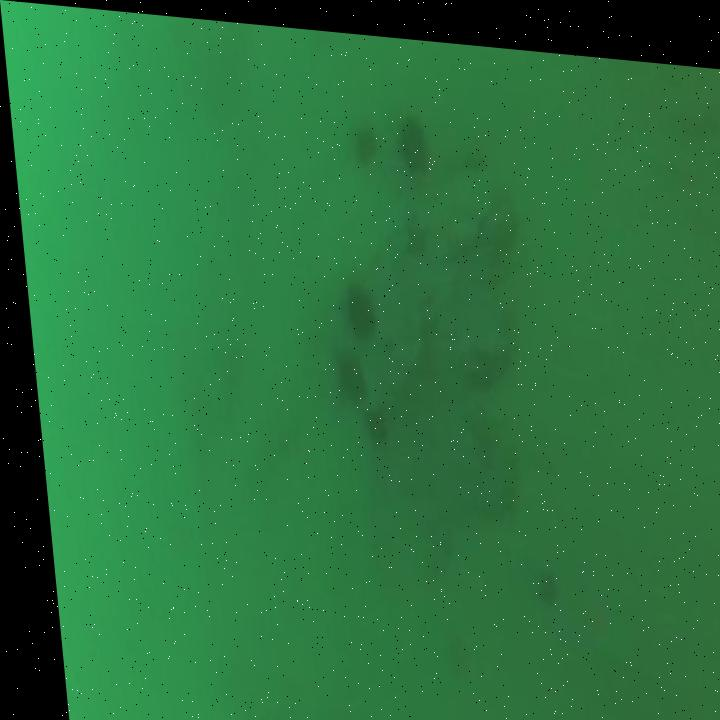echinus: (334, 271, 380, 340), (393, 102, 436, 171), (324, 341, 366, 406), (347, 110, 377, 163)
starfish: (393, 193, 433, 256)
